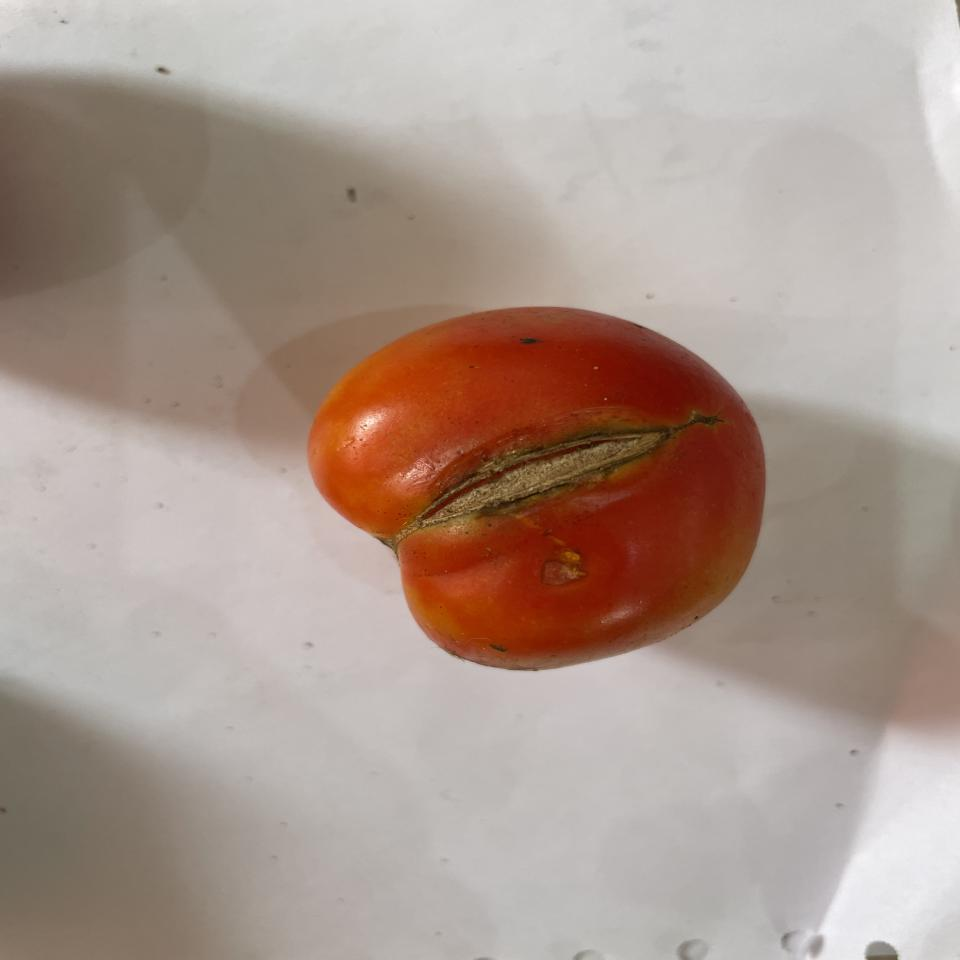Cracking: (395, 421, 703, 531)
